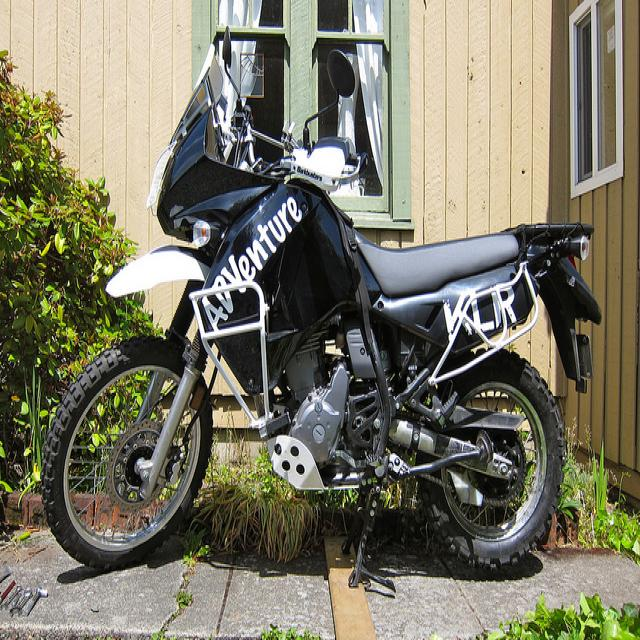motor: (40, 32, 603, 592)
